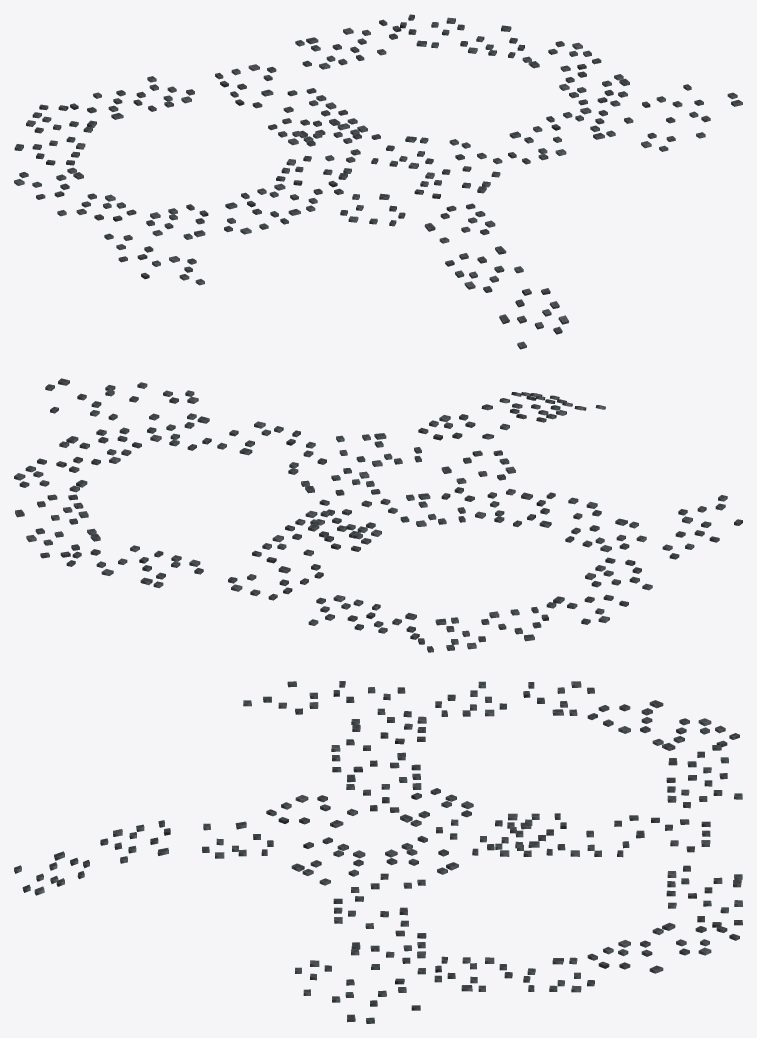
File: stone_stamp.fbx
3 renders of one model, top to bottom at view 1: azimuth 30°, elevation 25°; view 2: azimuth 150°, elevation 25°; view 3: azimuth 270°, elevation 25°, orthographic. The views are drawn at different scales.
Visible parts, largest first — view 1: new_stone/new_stone; view 2: new_stone/new_stone; view 3: new_stone/new_stone.
Boxes of the visible parts, box(x1,y1,x2,y2) form: new_stone/new_stone: box(14, 14, 742, 349); new_stone/new_stone: box(14, 378, 742, 652); new_stone/new_stone: box(14, 681, 742, 1023).
Size of the model in its own units: 42.54 by 3.13 by 38.23.
